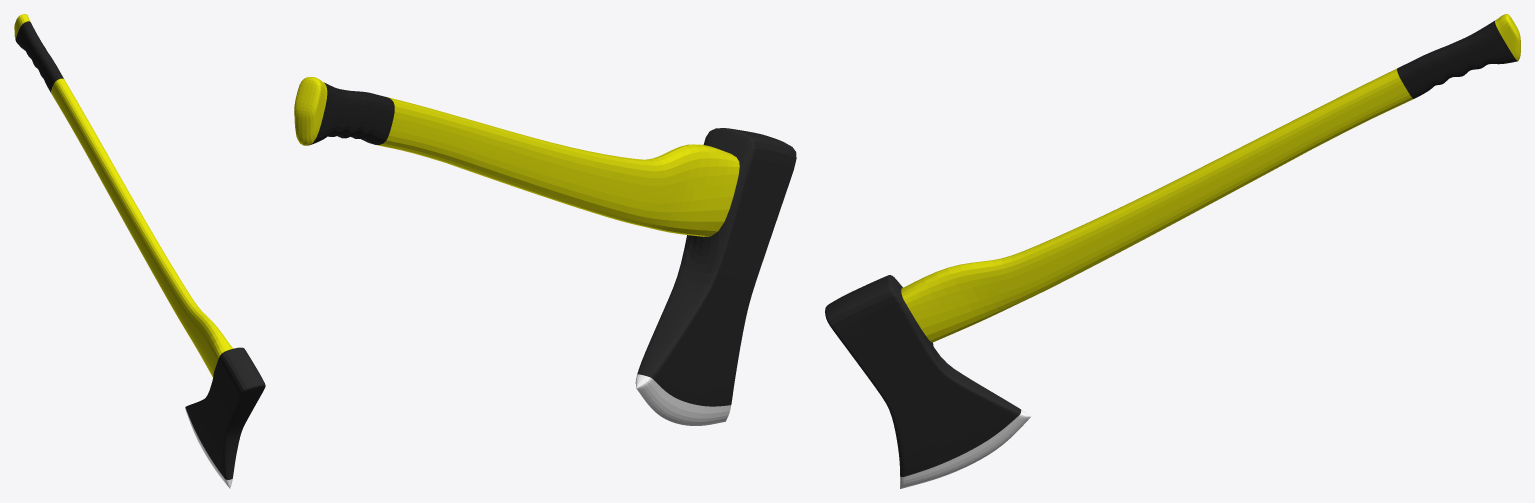
Rendered from axe.fbx.
3 renders of one model, left to right at view 1: azimuth 30°, elevation 25°; view 2: azimuth 150°, elevation 25°; view 3: azimuth 270°, elevation 25°, orthographic. The views are drawn at different scales.
Parts seen in each view (by area): view 1: Axe; view 2: Axe; view 3: Axe.
Part boxes in pixels (<box>): Axe: <box>14,14,265,488</box>; Axe: <box>294,77,796,425</box>; Axe: <box>825,14,1520,488</box>.
Bounding box in the file's own units: 4.68 × 58.44 × 77.77.
